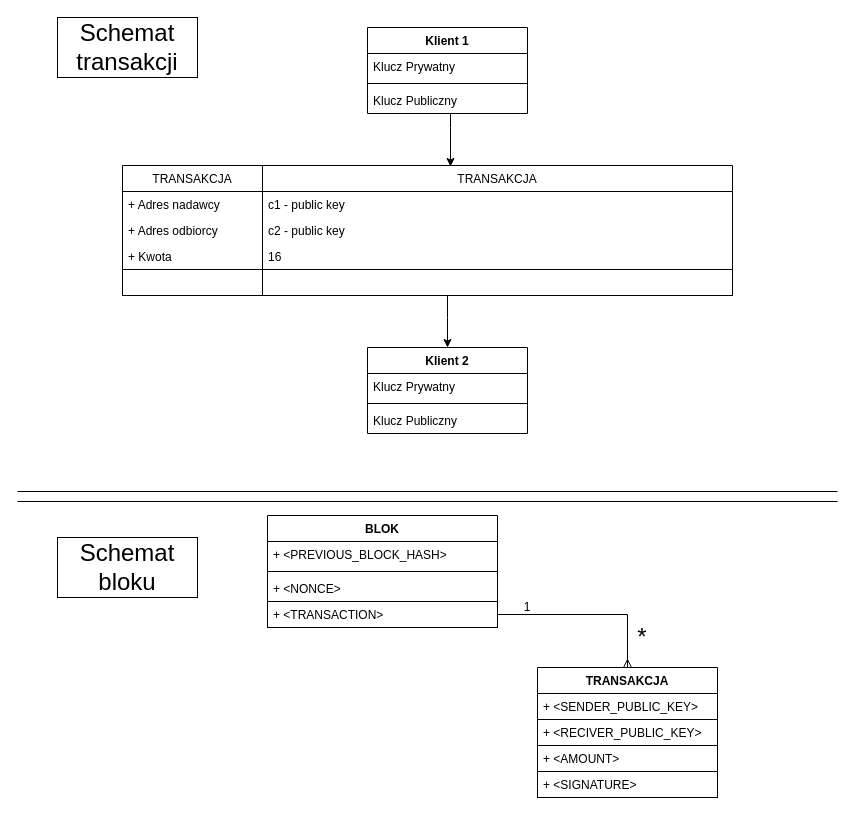
This 855x818 diagram has some shape labels left out. The shapes that lost their labels are listed below. From the top down, each one's centre as x and y in pixels, then its label:
At point (192, 282): "+ podpis".
At point (497, 282): "*** (hash transakcji(3 pól powyżej) zaszyfrowany kluczem prywatnym nadawcy)".
